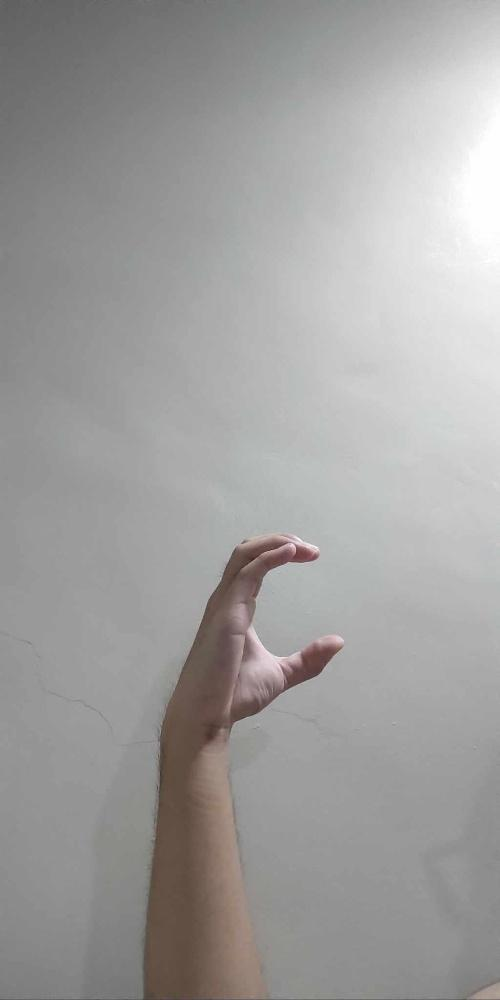c: (160, 528, 344, 736)
